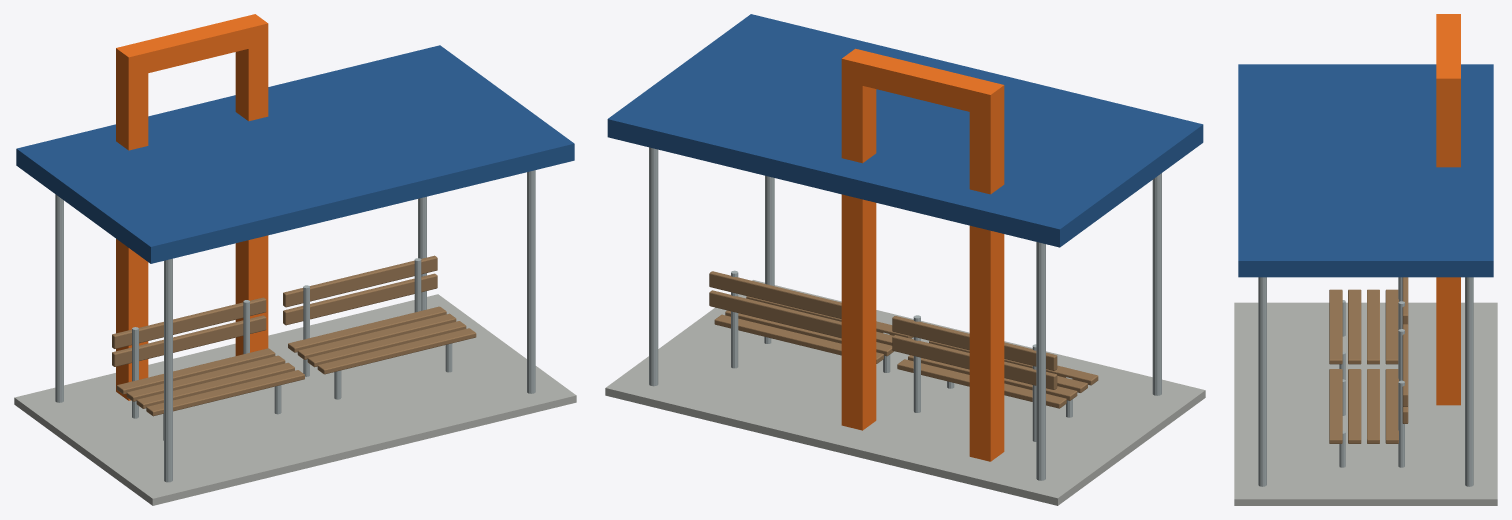
The model's file is shelter_education.glb.
3 views of the same model, side by side, from view 1: azimuth 30°, elevation 25°; view 2: azimuth 150°, elevation 25°; view 3: azimuth 270°, elevation 25° (orthographic). The views are drawn at different scales.
Visible parts, largest first — view 1: Education flat blue canopy, Education paving, CHOSUN_EDUCATION_SHELTER__Wooden bench slats, CHOSUN_EDUCATION_SHELTER__Education shelter orange portal, CHOSUN_EDUCATION_SHELTER__Brushed aluminium; view 2: Education flat blue canopy, Education paving, CHOSUN_EDUCATION_SHELTER__Education shelter orange portal, CHOSUN_EDUCATION_SHELTER__Wooden bench slats, CHOSUN_EDUCATION_SHELTER__Brushed aluminium; view 3: Education flat blue canopy, Education paving, CHOSUN_EDUCATION_SHELTER__Wooden bench slats, CHOSUN_EDUCATION_SHELTER__Education shelter orange portal, CHOSUN_EDUCATION_SHELTER__Brushed aluminium.
Boxes of the visible parts, left/top/right/bottom form: Education flat blue canopy: left=16, top=45, right=574, bottom=263; Education paving: left=14, top=294, right=576, bottom=505; CHOSUN_EDUCATION_SHELTER__Wooden bench slats: left=112, top=255, right=476, bottom=416; CHOSUN_EDUCATION_SHELTER__Education shelter orange portal: left=116, top=14, right=268, bottom=400; CHOSUN_EDUCATION_SHELTER__Brushed aluminium: left=55, top=170, right=535, bottom=482; Education flat blue canopy: left=607, top=14, right=1203, bottom=247; Education paving: left=605, top=280, right=1205, bottom=505; CHOSUN_EDUCATION_SHELTER__Education shelter orange portal: left=841, top=48, right=1004, bottom=461; CHOSUN_EDUCATION_SHELTER__Wooden bench slats: left=709, top=271, right=1098, bottom=408; CHOSUN_EDUCATION_SHELTER__Brushed aluminium: left=649, top=147, right=1161, bottom=480; Education flat blue canopy: left=1238, top=64, right=1493, bottom=277; Education paving: left=1234, top=302, right=1497, bottom=505; CHOSUN_EDUCATION_SHELTER__Wooden bench slats: left=1329, top=277, right=1408, bottom=443; CHOSUN_EDUCATION_SHELTER__Education shelter orange portal: left=1436, top=14, right=1460, bottom=405; CHOSUN_EDUCATION_SHELTER__Brushed aluminium: left=1258, top=277, right=1473, bottom=486.
Size of the model in its own units: 4.95 by 3.91 by 2.8.
